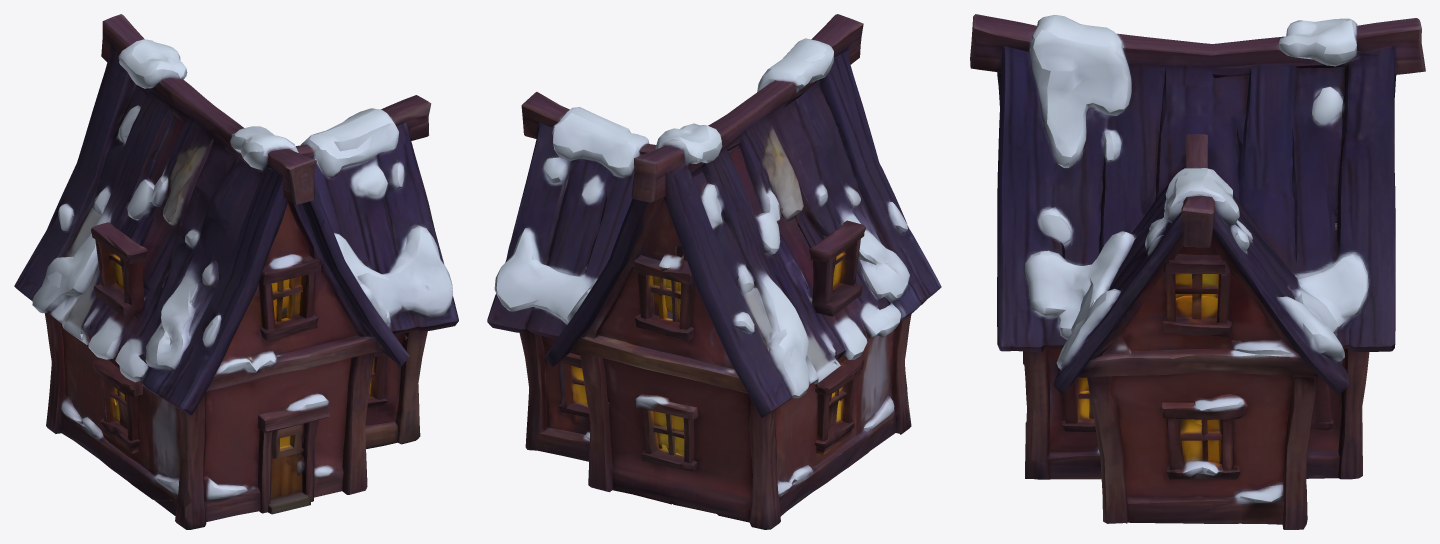
File: storybook-cottage.glb
3 views of the same model, side by side, from view 1: azimuth 30°, elevation 25°; view 2: azimuth 150°, elevation 25°; view 3: azimuth 270°, elevation 25° (orthographic). The views are drawn at different scales.
Visible parts, largest first — view 1: world; view 2: world; view 3: world.
Boxes of the visible parts, left/top/right/bottom form: world: left=14, top=14, right=458, bottom=529; world: left=487, top=14, right=941, bottom=529; world: left=970, top=14, right=1425, bottom=529.
Bounding box in the file's own units: 0.1417 × 0.15 × 0.149.
Materials: 1 (1 with a texture image).
